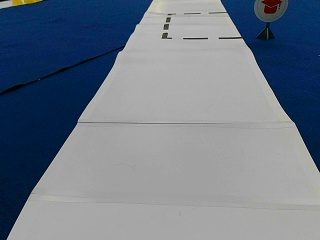school: (254, 0, 287, 22)
